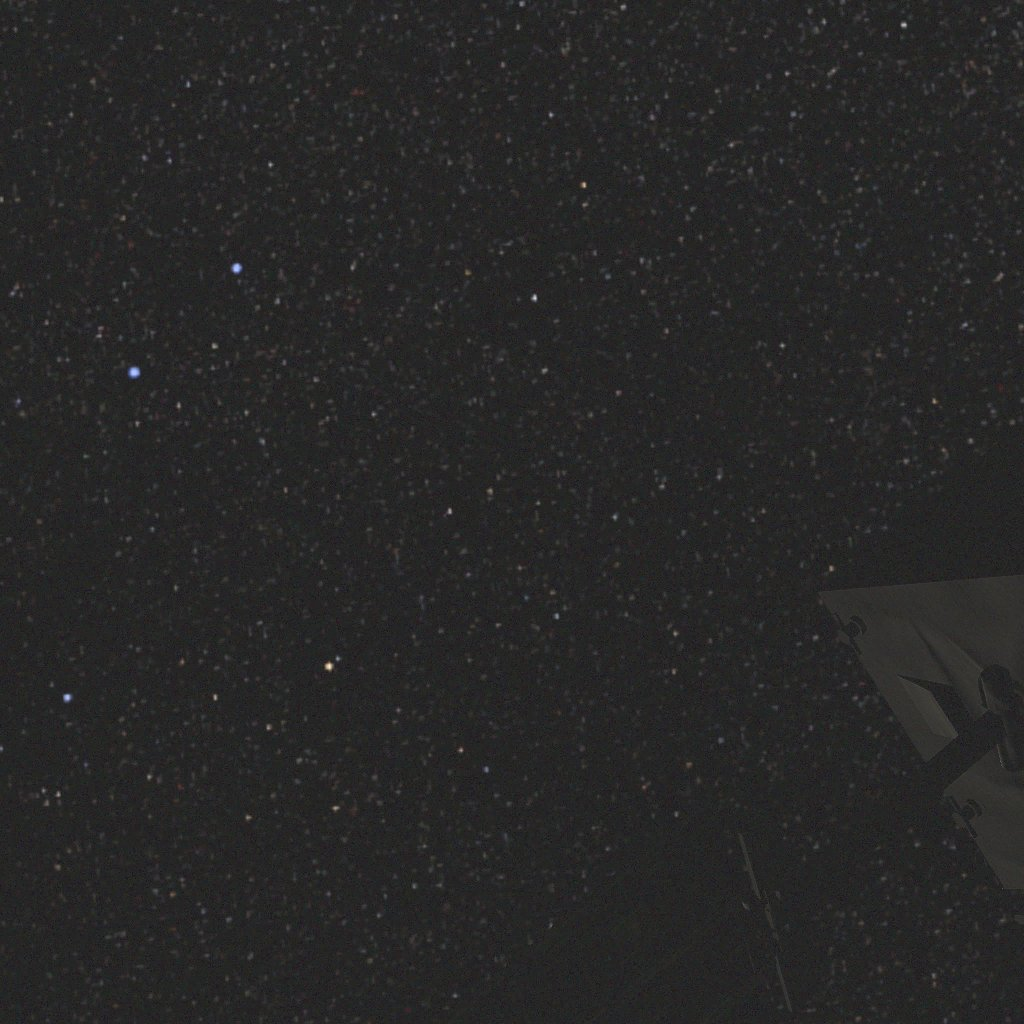smart_1: (500, 429, 1020, 1018)
